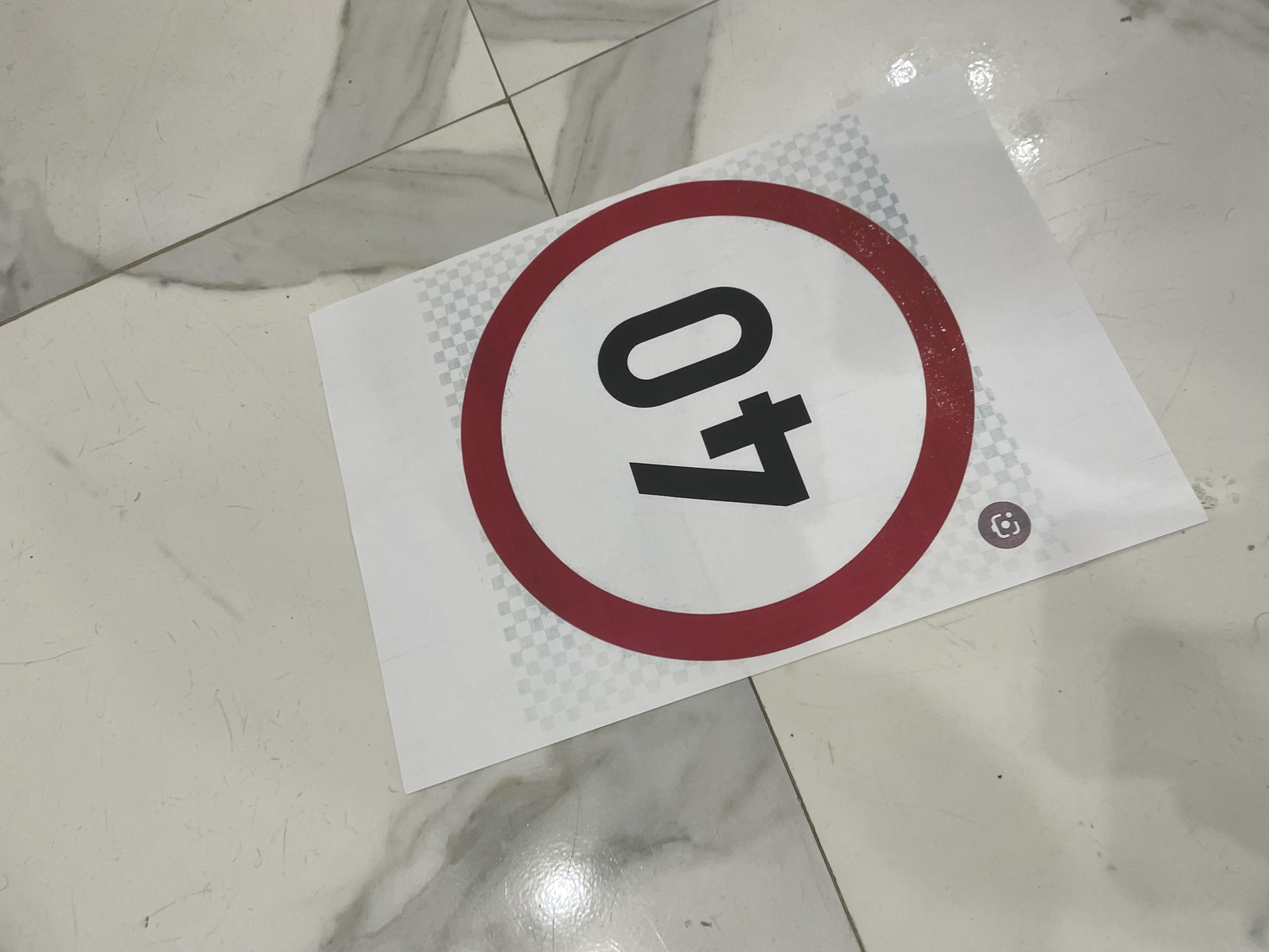40-Speed: (379, 333, 1039, 738)
